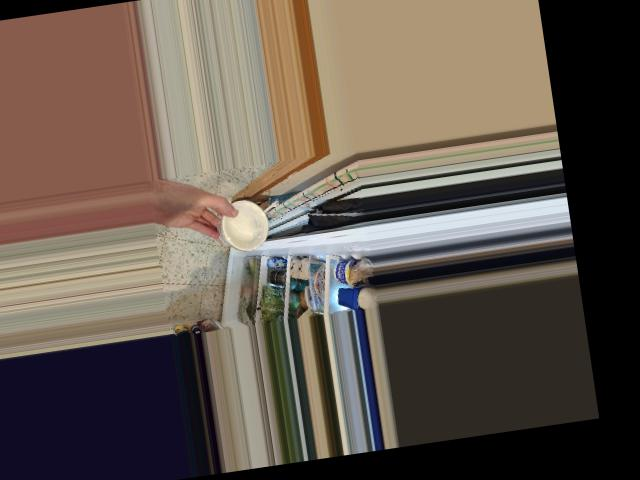cotage: (219, 199, 278, 255)
